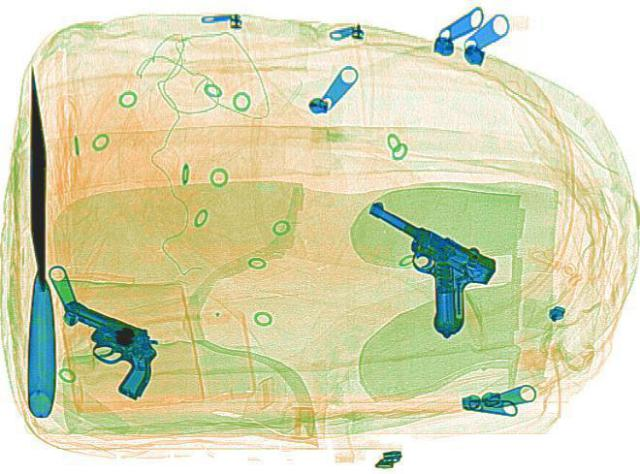Gun: (302, 198, 518, 336), (22, 293, 188, 398)
Knife: (20, 63, 54, 415)
